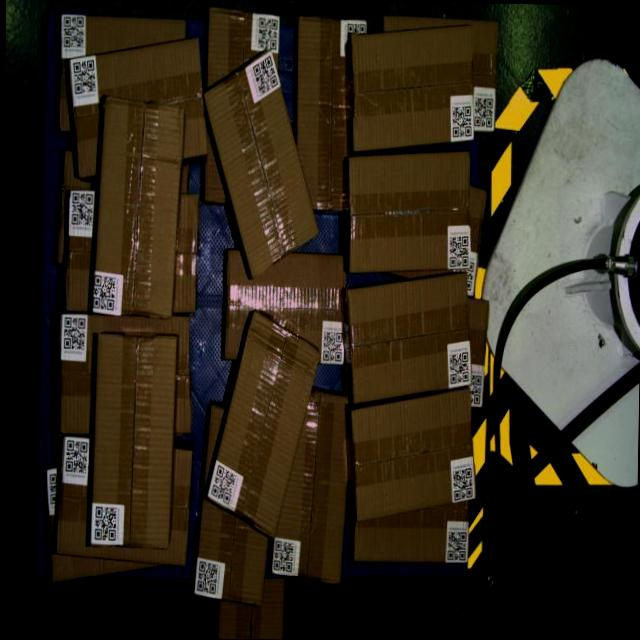box: (198, 48, 322, 281), (205, 308, 322, 540), (91, 96, 184, 320), (89, 333, 177, 548), (350, 385, 478, 523), (346, 270, 474, 406), (349, 22, 476, 153), (347, 148, 473, 274)
